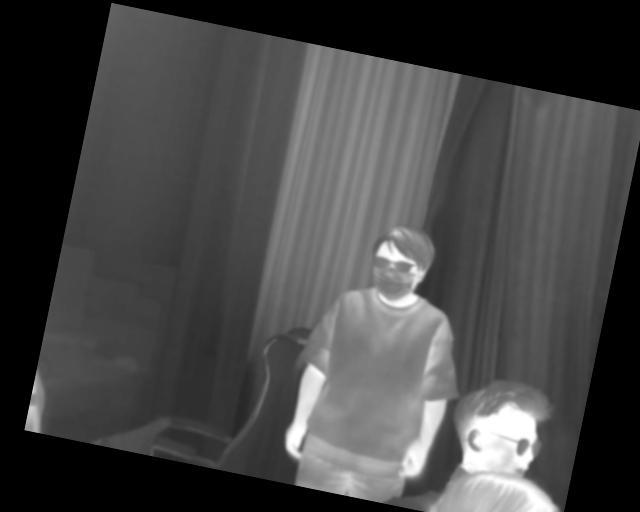face: (362, 219, 438, 308)
